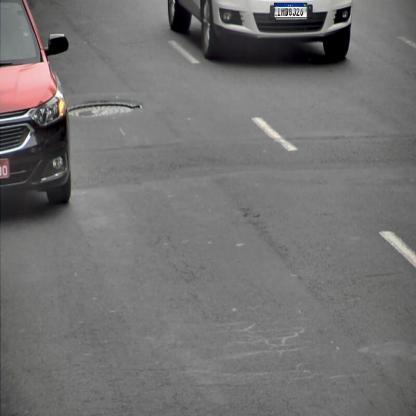PlacaM: (274, 3, 307, 18)
